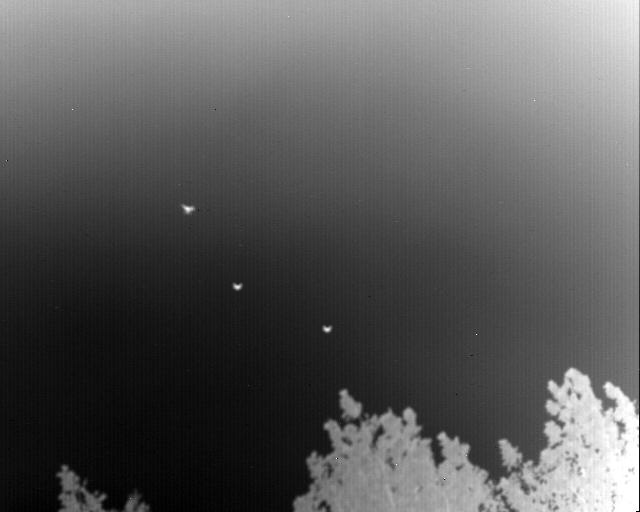plane: (181, 203, 195, 214), (232, 282, 243, 291), (322, 325, 332, 333)
